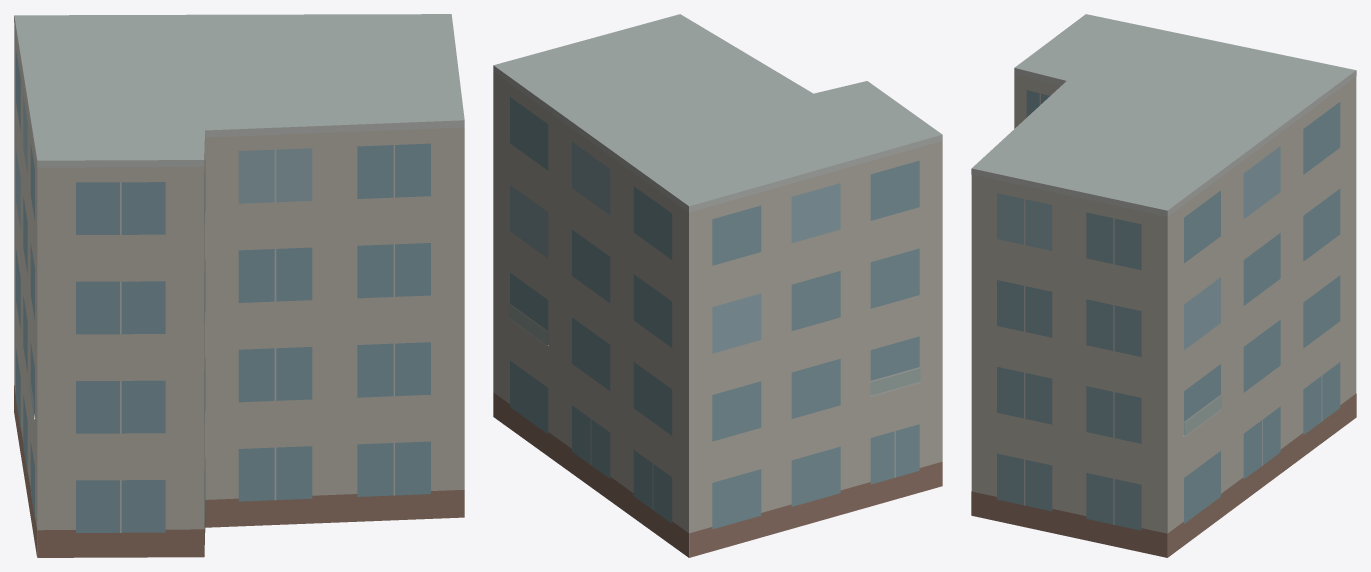
File: survey-upis-33039299.glb
3 renders of one model, left to right at view 1: azimuth 30°, elevation 25°; view 2: azimuth 150°, elevation 25°; view 3: azimuth 270°, elevation 25°, orthographic. The views are drawn at different scales.
Visible parts, largest first — view 1: survey-upis-33039299.tmp; view 2: survey-upis-33039299.tmp; view 3: survey-upis-33039299.tmp.
Boxes of the visible parts, left/top/right/bottom form: survey-upis-33039299.tmp: left=14, top=14, right=464, bottom=557; survey-upis-33039299.tmp: left=493, top=14, right=942, bottom=557; survey-upis-33039299.tmp: left=971, top=14, right=1356, bottom=557.
Size of the model in its own units: 16.75 by 13.78 by 13.86.
